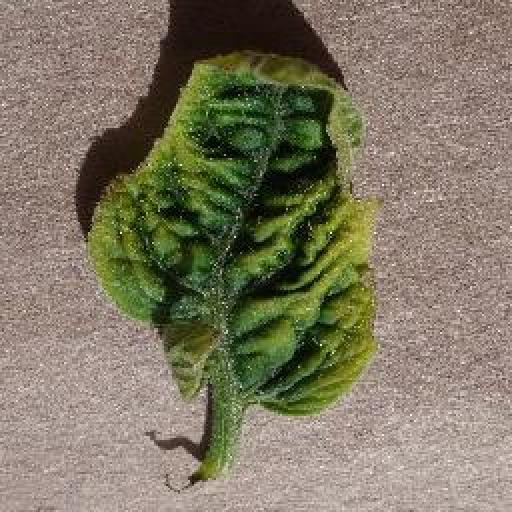disease_tomato: (88, 48, 387, 416)
